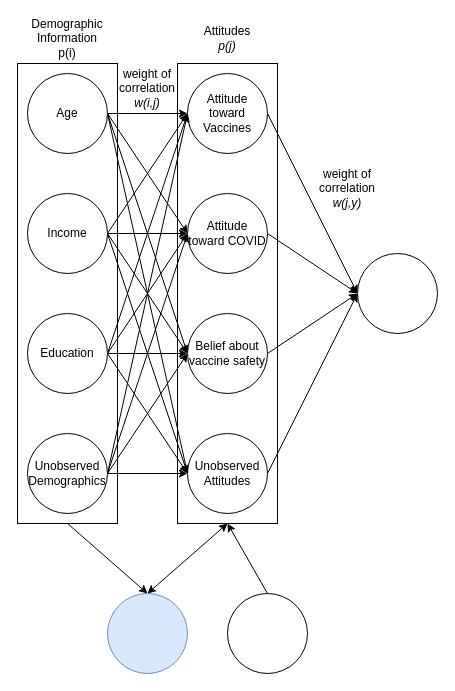
The diagram is 455 pixels wide and 691 high, and some of its shapes have lost their labels. Each missing label, with the centre of its shape:
Network Interference: the point at 147,633
Prior Beliefs: the point at 267,633
Tendency to Vaccine p( y): the point at 397,293
